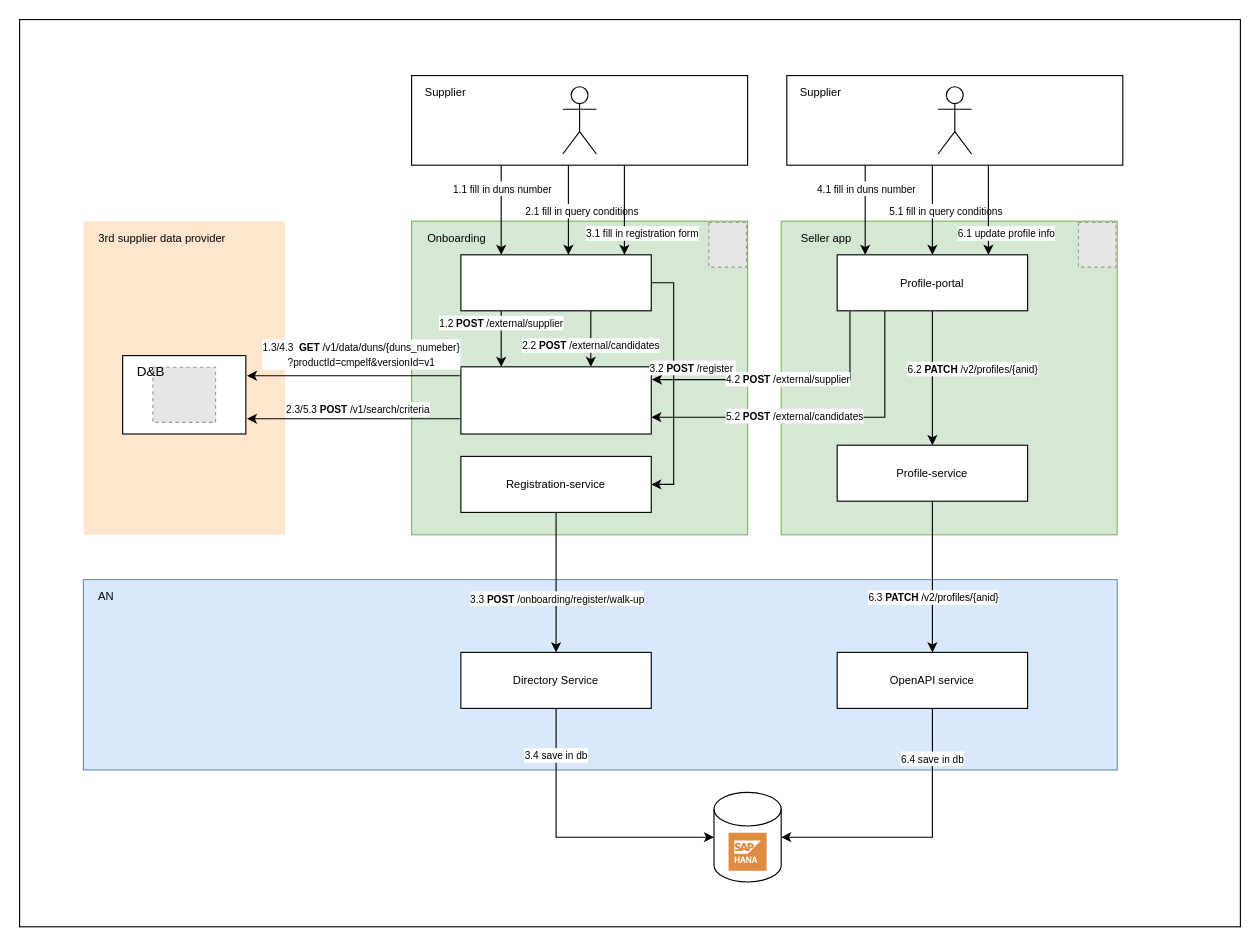
Image size: 1260x946. Some labels were removed from this diagram. Grey dashed boxes stand in for pictures. The shapes that lost their labels are listed below. From the top down, each one's box as (x1, y1, x2, y2) in pixels, then its label:
(460, 254, 651, 311): Registration-service-portal
(460, 366, 651, 434): Externaldata-service
